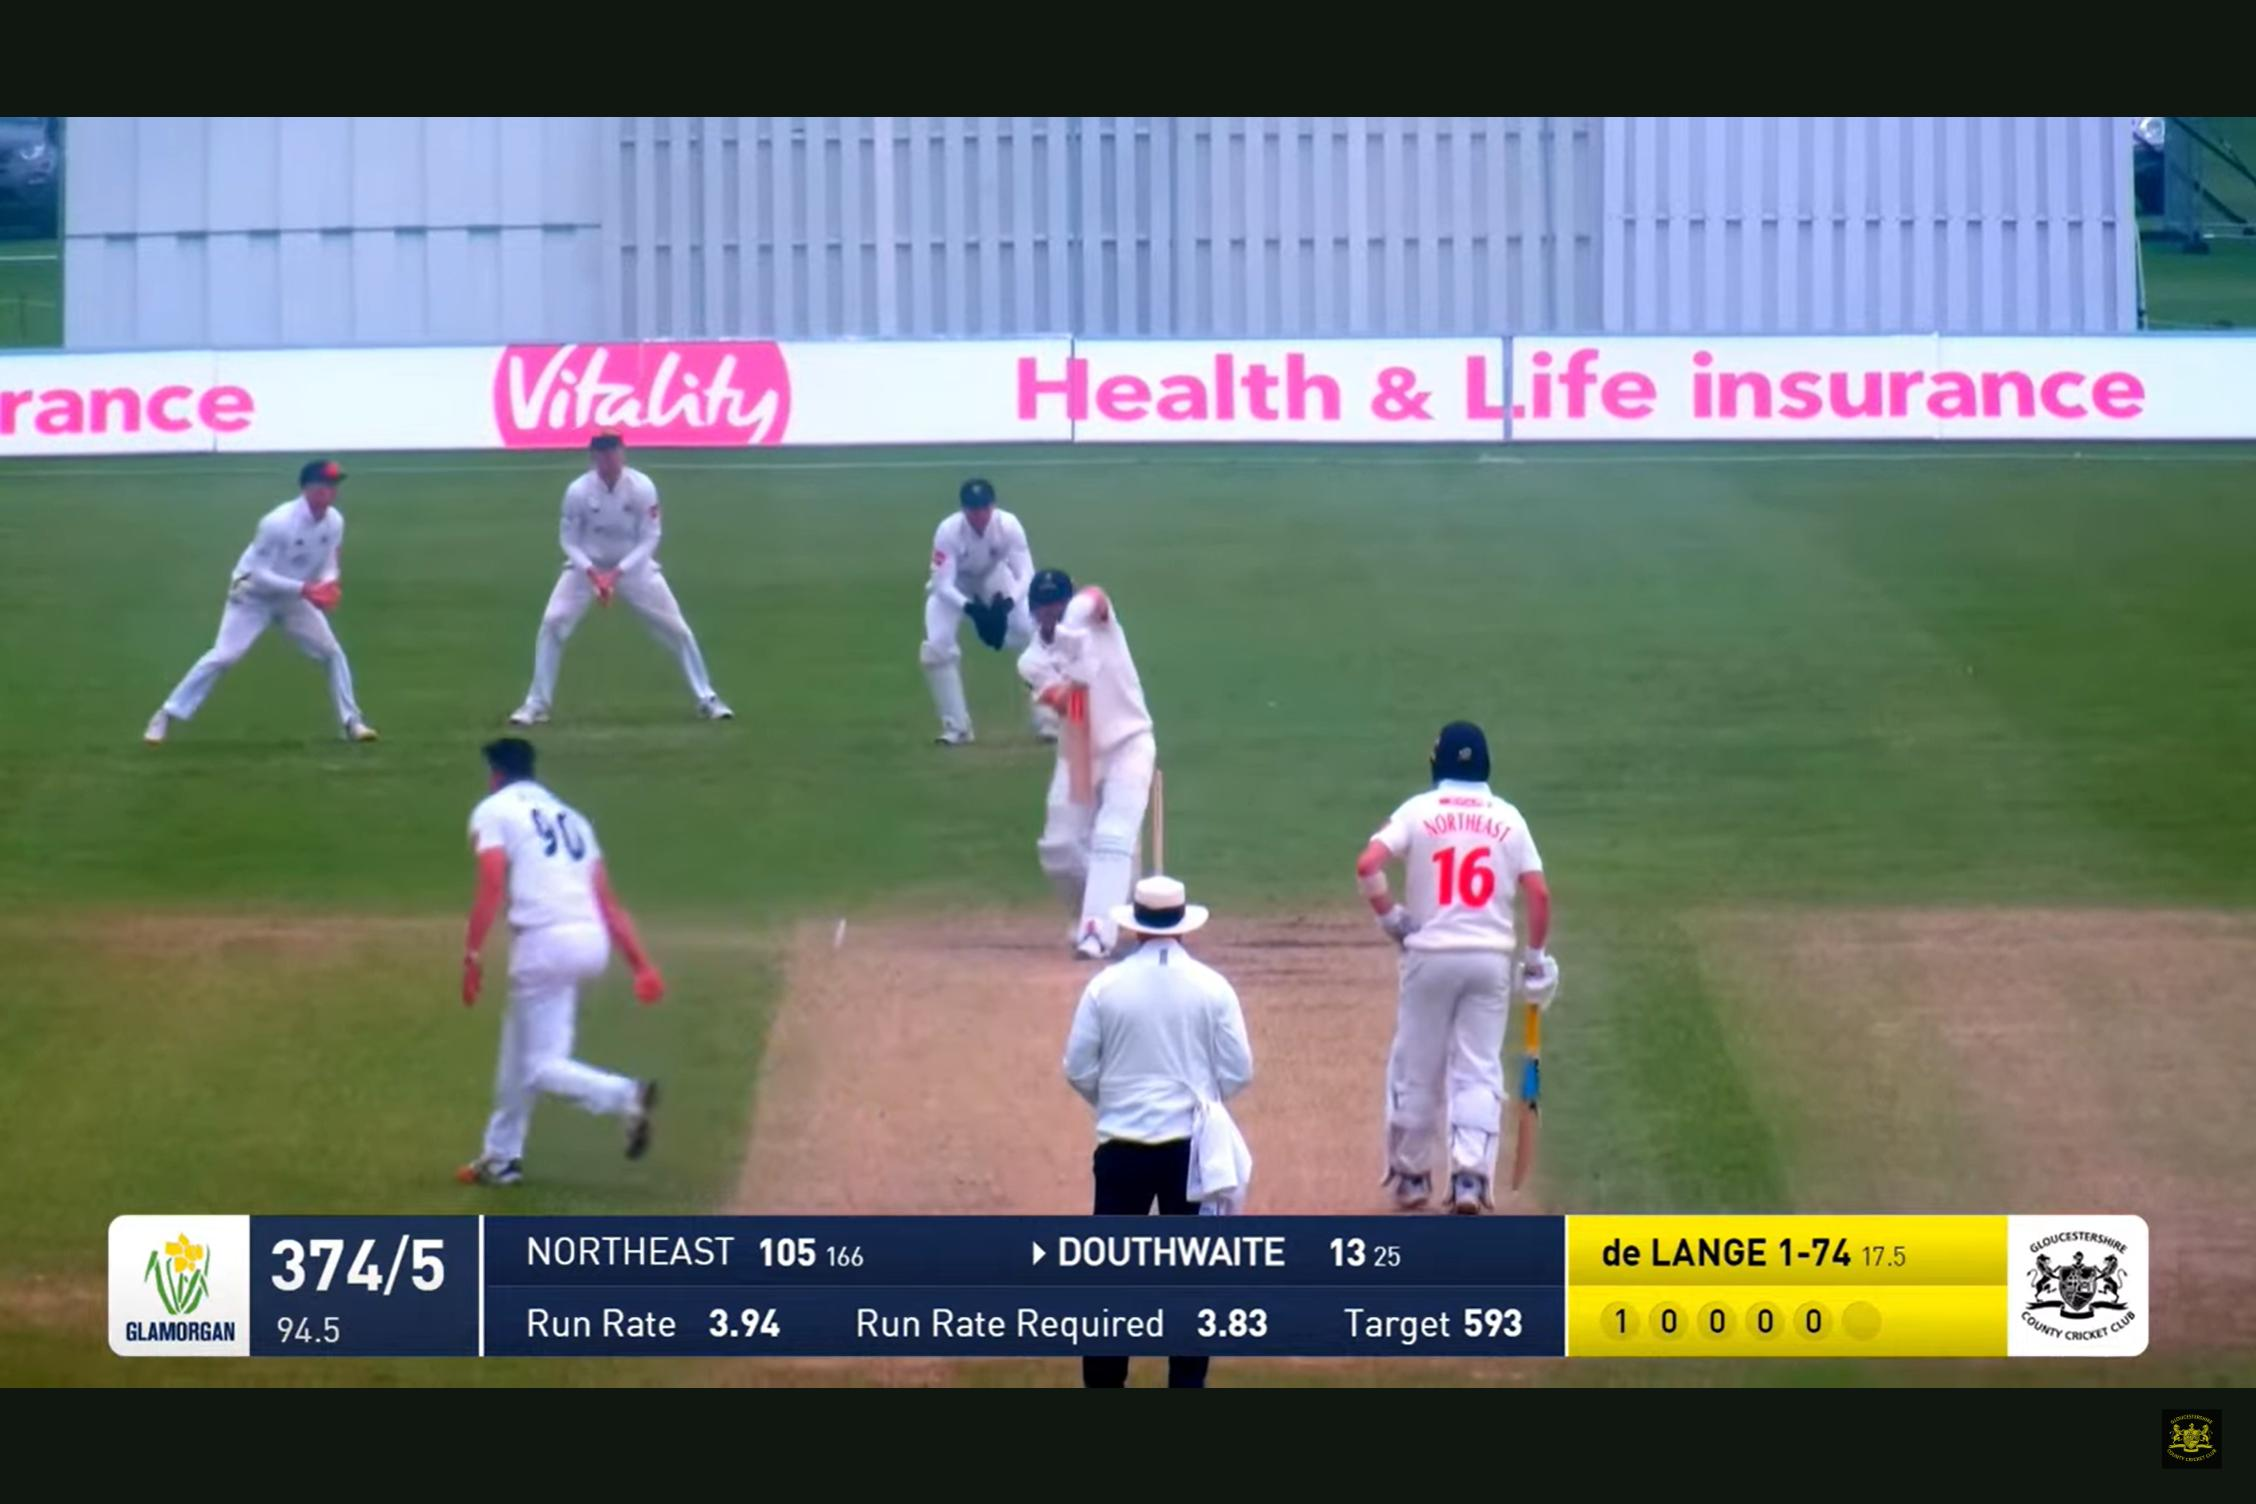batsman: (975, 547, 1167, 953)
bowler running in: (436, 728, 688, 1204)
non striker: (1341, 717, 1593, 1204)
